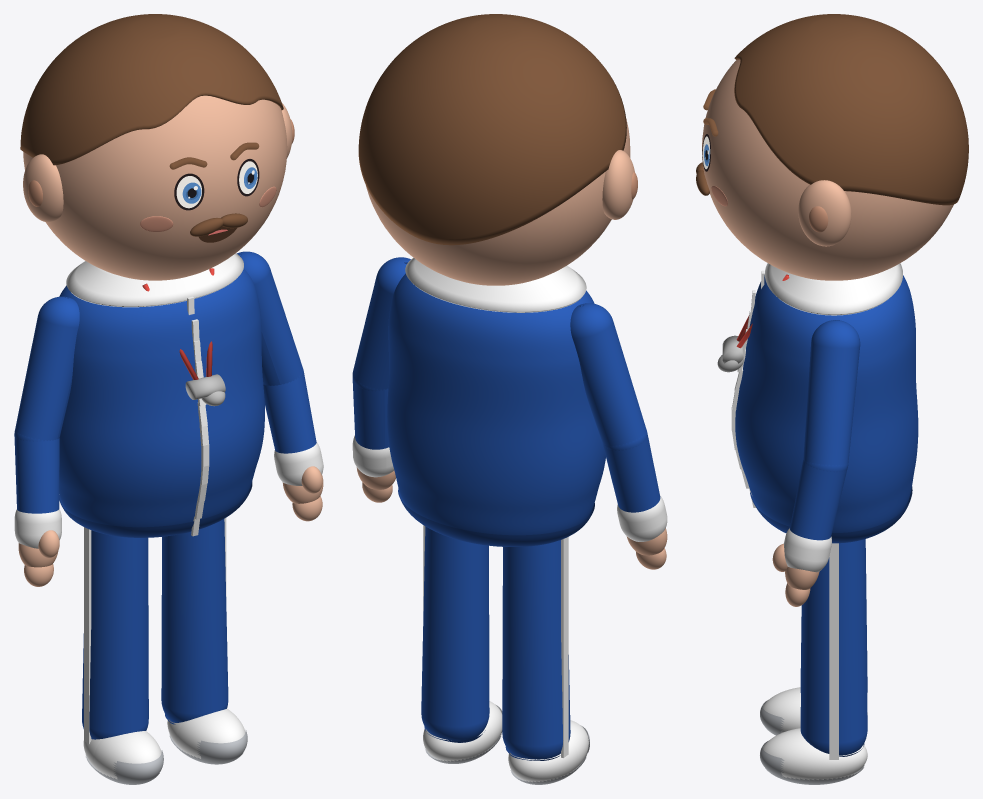
Rendered from gymleraar.glb.
3 renders of one model, left to right at view 1: azimuth 30°, elevation 25°; view 2: azimuth 150°, elevation 25°; view 3: azimuth 270°, elevation 25°, orthographic.
Visible parts, largest first — view 1: gymleraar_romp, gymleraar_hoofd, gymleraar_haar, gymleraar_been_L, gymleraar_been_R, gymleraar_bovenarm_R, gymleraar_kraag, gymleraar_bovenarm_L, gymleraar_onderarm_R, gymleraar_onderarm_L, gymleraar_schoen_R, gymleraar_schoen_L (+9 smaller); view 2: gymleraar_haar, gymleraar_romp, gymleraar_been_L, gymleraar_been_R, gymleraar_hoofd, gymleraar_bovenarm_R, gymleraar_kraag, gymleraar_bovenarm_L, gymleraar_onderarm_R, gymleraar_schoen_R, gymleraar_onderarm_L, gymleraar_romp_boord (+6 smaller); view 3: gymleraar_haar, gymleraar_romp, gymleraar_hoofd, gymleraar_been_L, gymleraar_bovenarm_L, gymleraar_kraag, gymleraar_onderarm_L, gymleraar_schoen_L, gymleraar_oor_L, gymleraar_broekstreep_L, gymleraar_manchet_L, gymleraar_schoen_R (+2 smaller).
Part boxes in pixels (x1,y1,x2,y2): gymleraar_romp: [59, 268, 264, 527]; gymleraar_hoofd: [23, 95, 287, 280]; gymleraar_haar: [20, 14, 283, 165]; gymleraar_been_L: [161, 519, 228, 722]; gymleraar_been_R: [82, 530, 148, 739]; gymleraar_bovenarm_R: [15, 296, 79, 441]; gymleraar_kraag: [66, 253, 243, 307]; gymleraar_bovenarm_L: [237, 251, 303, 385]; gymleraar_onderarm_R: [14, 433, 59, 513]; gymleraar_onderarm_L: [263, 373, 316, 453]; gymleraar_schoen_R: [83, 731, 161, 779]; gymleraar_schoen_L: [167, 708, 245, 758]; gymleraar_haar: [358, 14, 626, 245]; gymleraar_romp: [387, 273, 605, 535]; gymleraar_been_L: [421, 526, 489, 740]; gymleraar_been_R: [502, 540, 570, 759]; gymleraar_hoofd: [366, 118, 630, 285]; gymleraar_bovenarm_R: [570, 303, 646, 450]; gymleraar_kraag: [405, 258, 586, 312]; gymleraar_bovenarm_L: [353, 257, 410, 390]; gymleraar_onderarm_R: [602, 434, 660, 512]; gymleraar_schoen_R: [508, 720, 588, 782]; gymleraar_onderarm_L: [352, 379, 389, 449]; gymleraar_romp_boord: [398, 488, 594, 546]; gymleraar_haar: [734, 14, 968, 205]; gymleraar_romp: [735, 275, 918, 532]; gymleraar_hoofd: [702, 59, 953, 280]; gymleraar_been_L: [800, 539, 867, 755]; gymleraar_bovenarm_L: [803, 320, 860, 471]; gymleraar_kraag: [764, 263, 902, 315]; gymleraar_onderarm_L: [789, 460, 848, 540]; gymleraar_schoen_L: [762, 728, 867, 780]; gymleraar_oor_L: [798, 180, 851, 246]; gymleraar_broekstreep_L: [829, 543, 838, 759]; gymleraar_manchet_L: [784, 528, 831, 572]; gymleraar_schoen_R: [763, 687, 867, 732].
Size of the model in its own units: 0.7932 by 1.84 by 0.6193.
